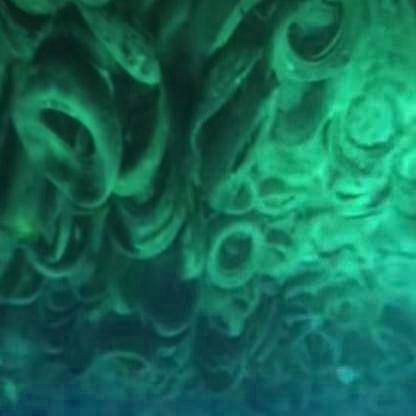tire: (186, 54, 277, 213), (185, 193, 281, 335), (34, 67, 120, 216), (94, 164, 192, 278), (92, 70, 176, 201)
